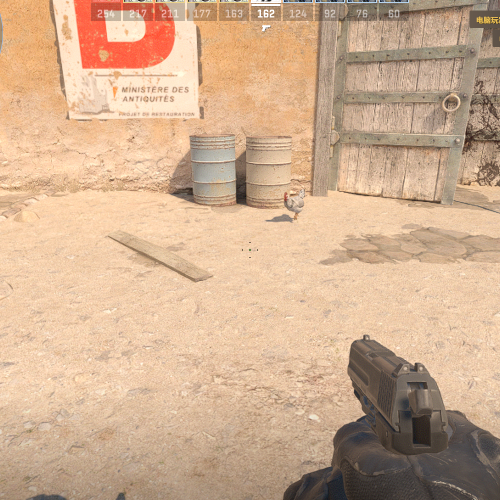chicken: (282, 189, 306, 221)
